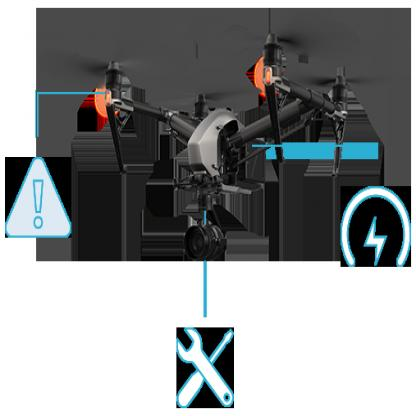drone: (43, 22, 391, 203)
